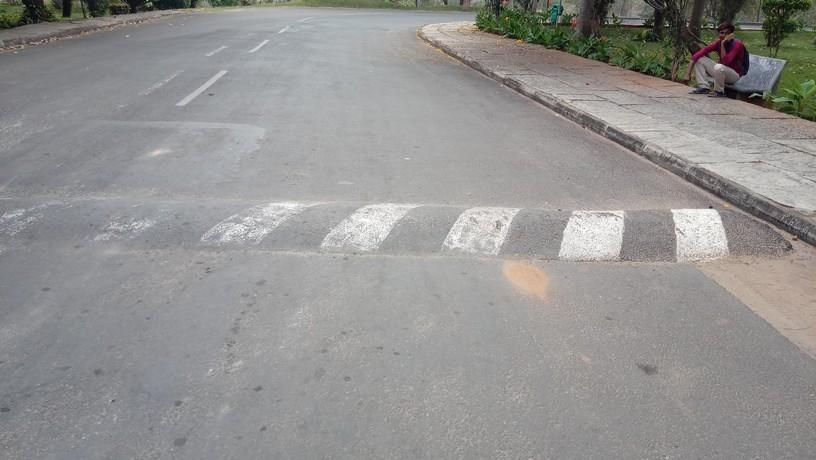speedbreaker: (0, 190, 792, 258)
